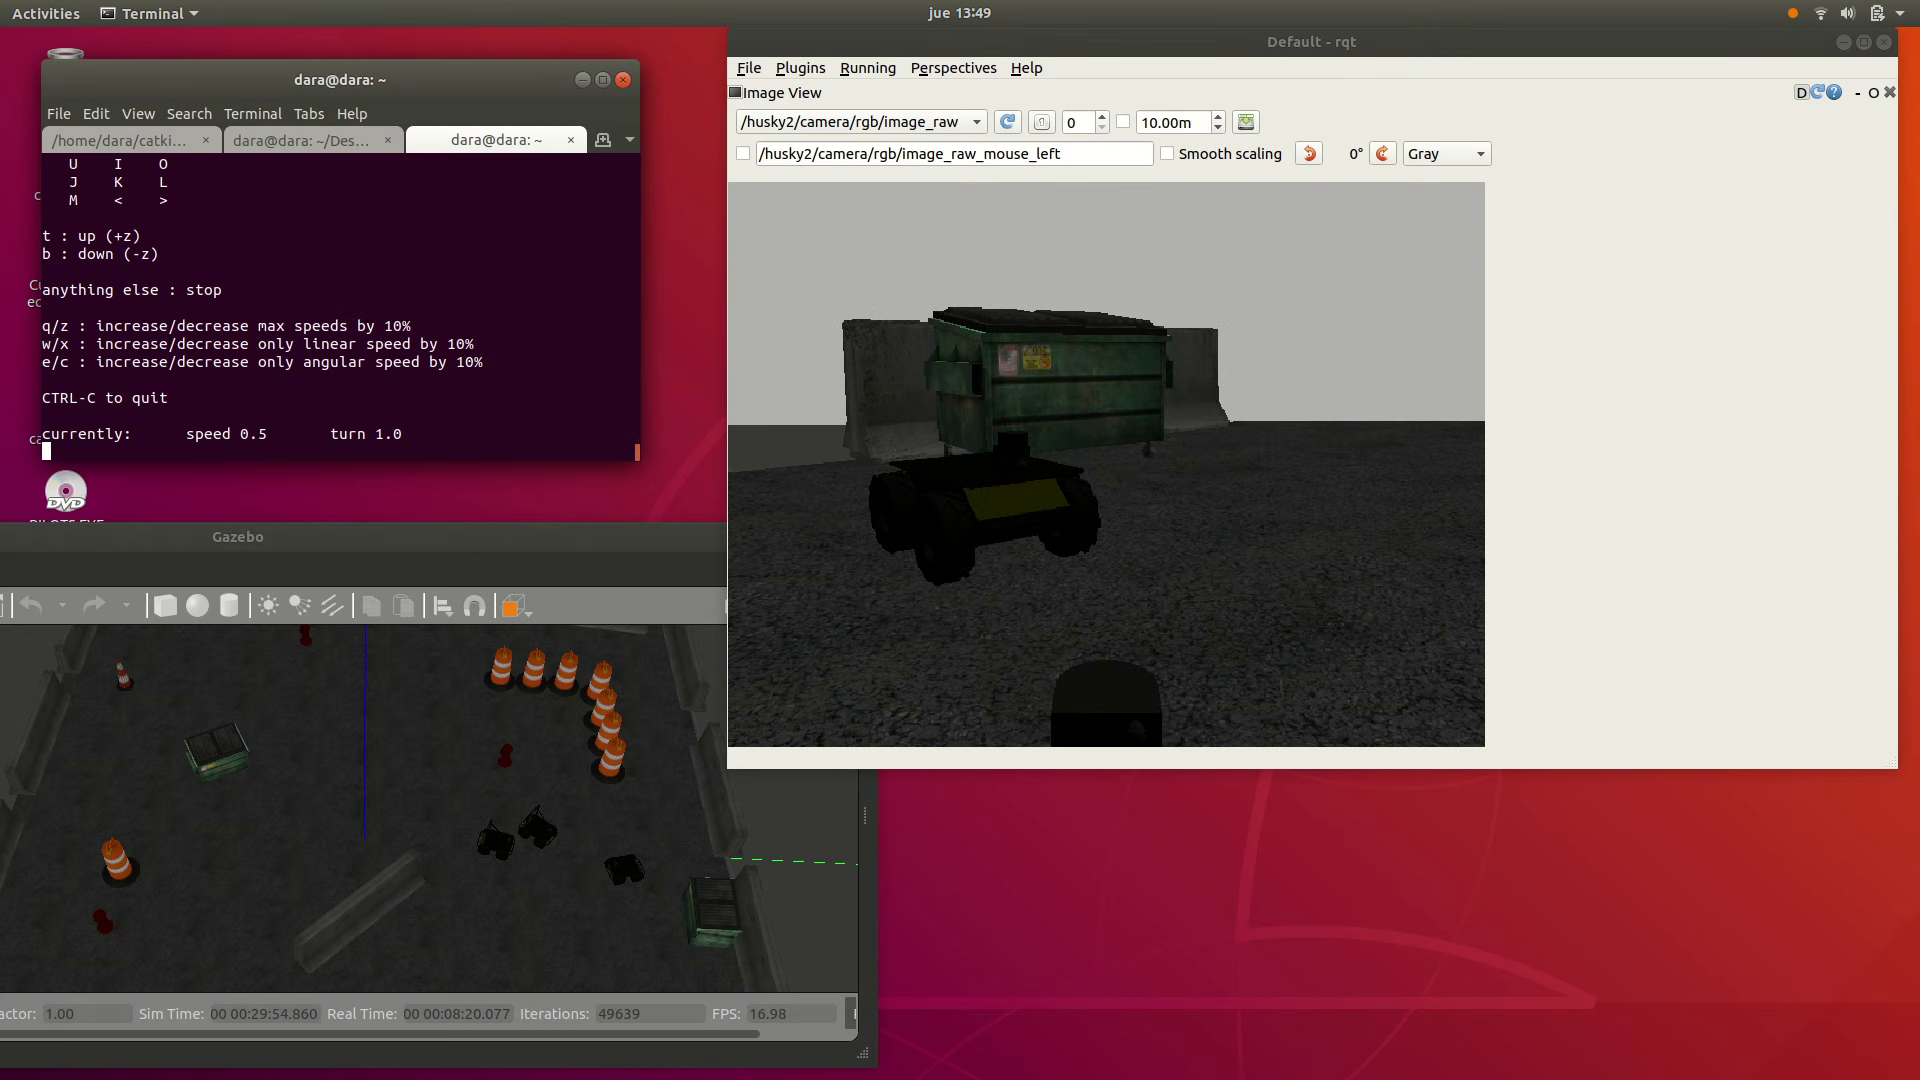husky: (870, 451, 1104, 586), (518, 814, 559, 849), (604, 854, 647, 885), (476, 828, 515, 861)
